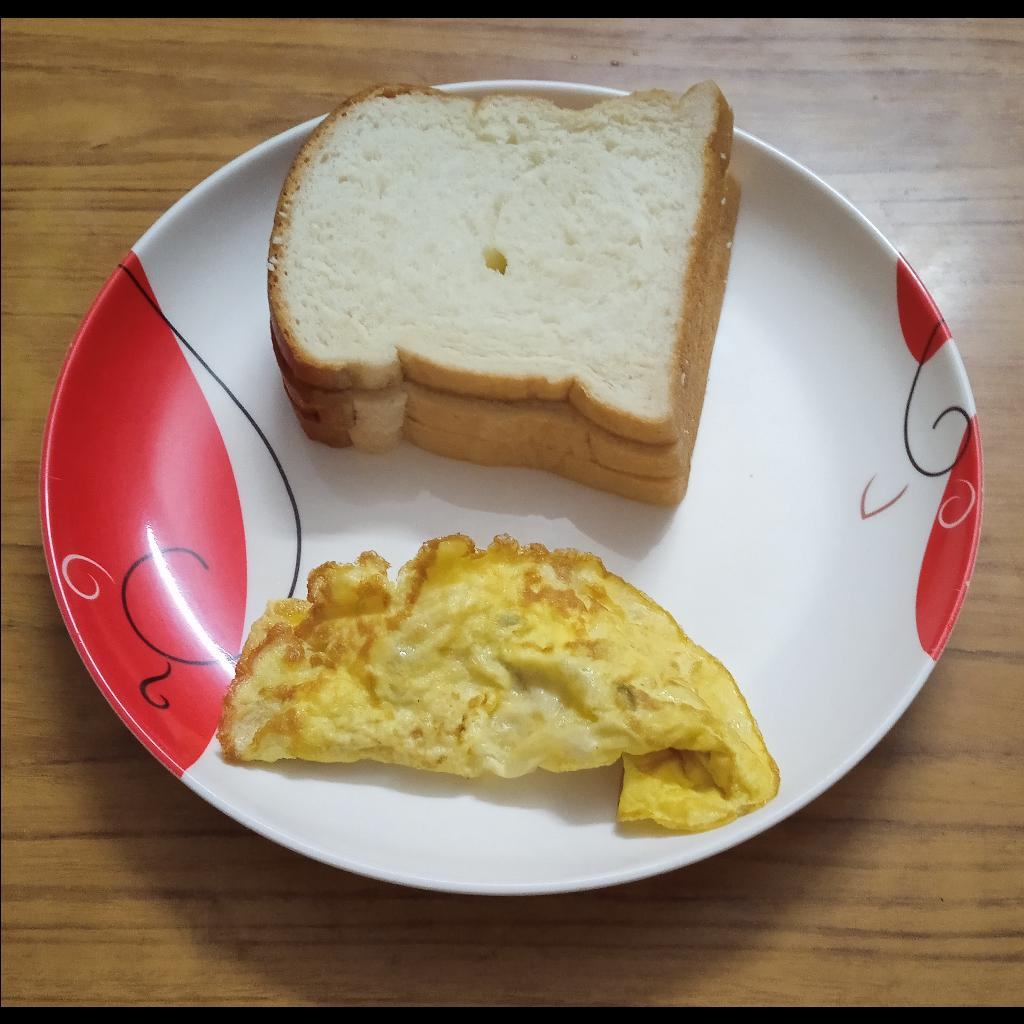bread: (268, 76, 740, 507)
egg-poached: (221, 532, 781, 834)
